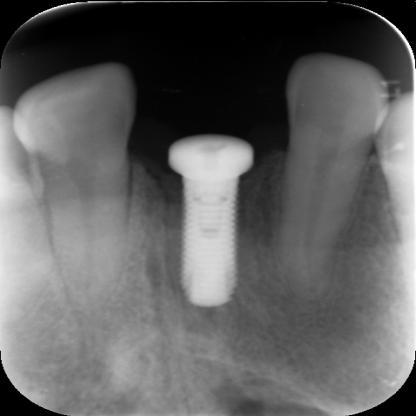Bego: (164, 130, 258, 308)
